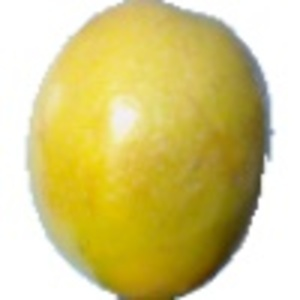maracujá: (26, 1, 276, 300)
